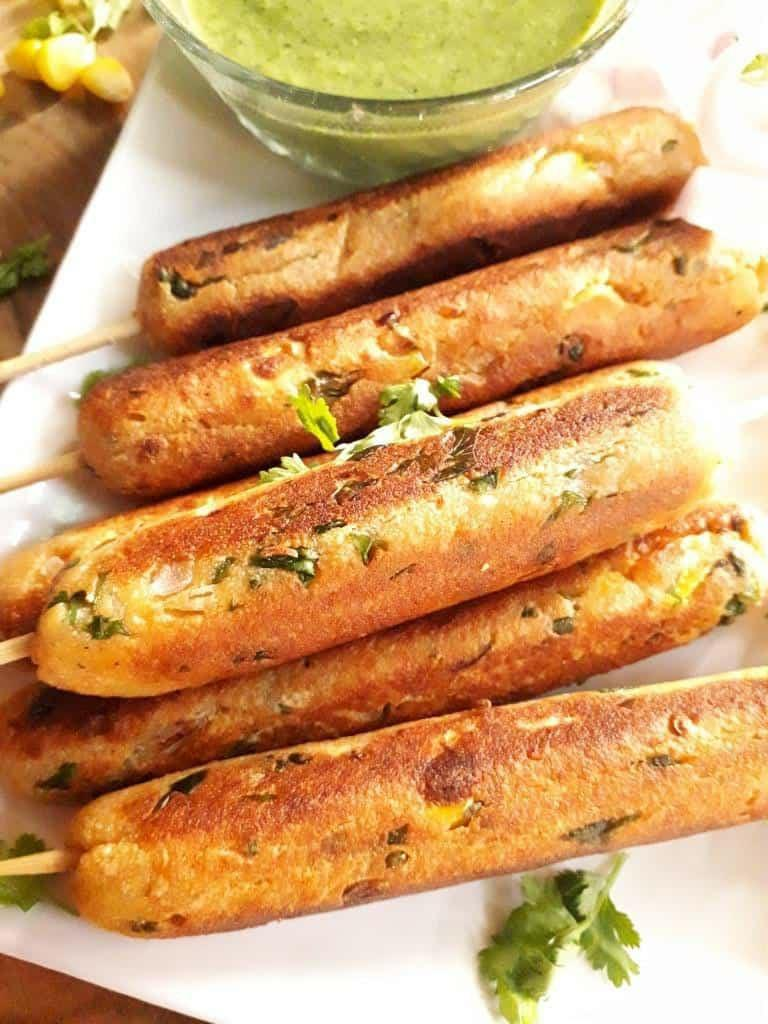GreenChutney: (196, 0, 598, 171)
Kebab: (31, 365, 711, 715), (0, 502, 768, 798), (78, 218, 768, 498), (60, 667, 768, 938), (133, 108, 734, 351)
